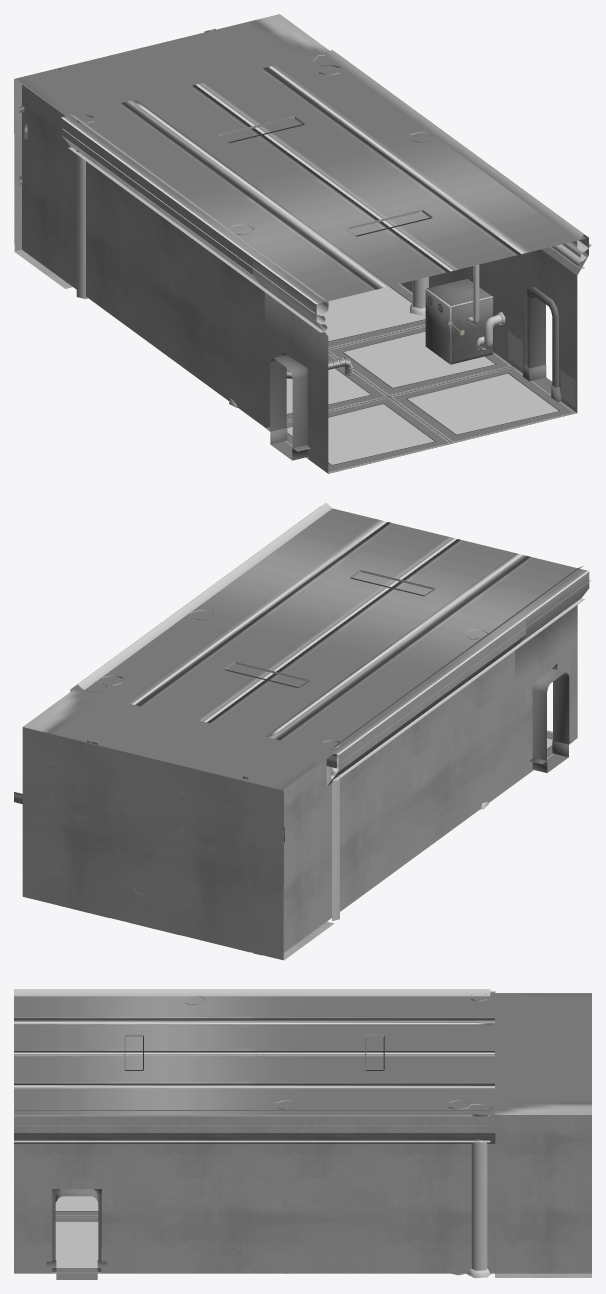
The model's file is MSH_Water_Purification_room_L1_R1_optimized.fbx.
3 views of the same model, one above another, from view 1: azimuth 30°, elevation 25°; view 2: azimuth 150°, elevation 25°; view 3: azimuth 270°, elevation 25° (orthographic). The views are drawn at different scales.
Parts seen in each view (by area): view 1: lightmap1, lightmap0, lightmap-1; view 2: lightmap1, lightmap-1; view 3: lightmap1, lightmap0, lightmap-1.
Part boxes in pixels (x1=…): lightmap1: x1=14, y1=14, x2=591, y2=473; lightmap0: x1=19, y1=28, x2=505, y2=407; lightmap-1: x1=270, y1=295, x2=552, y2=460; lightmap1: x1=22, y1=503, x2=591, y2=960; lightmap-1: x1=532, y1=668, x2=569, y2=772; lightmap1: x1=14, y1=989, x2=591, y2=1277; lightmap0: x1=153, y1=996, x2=492, y2=1277; lightmap-1: x1=55, y1=1189, x2=98, y2=1279.
Bounding box in the file's own units: 10.52 × 6.94 × 19.83.
